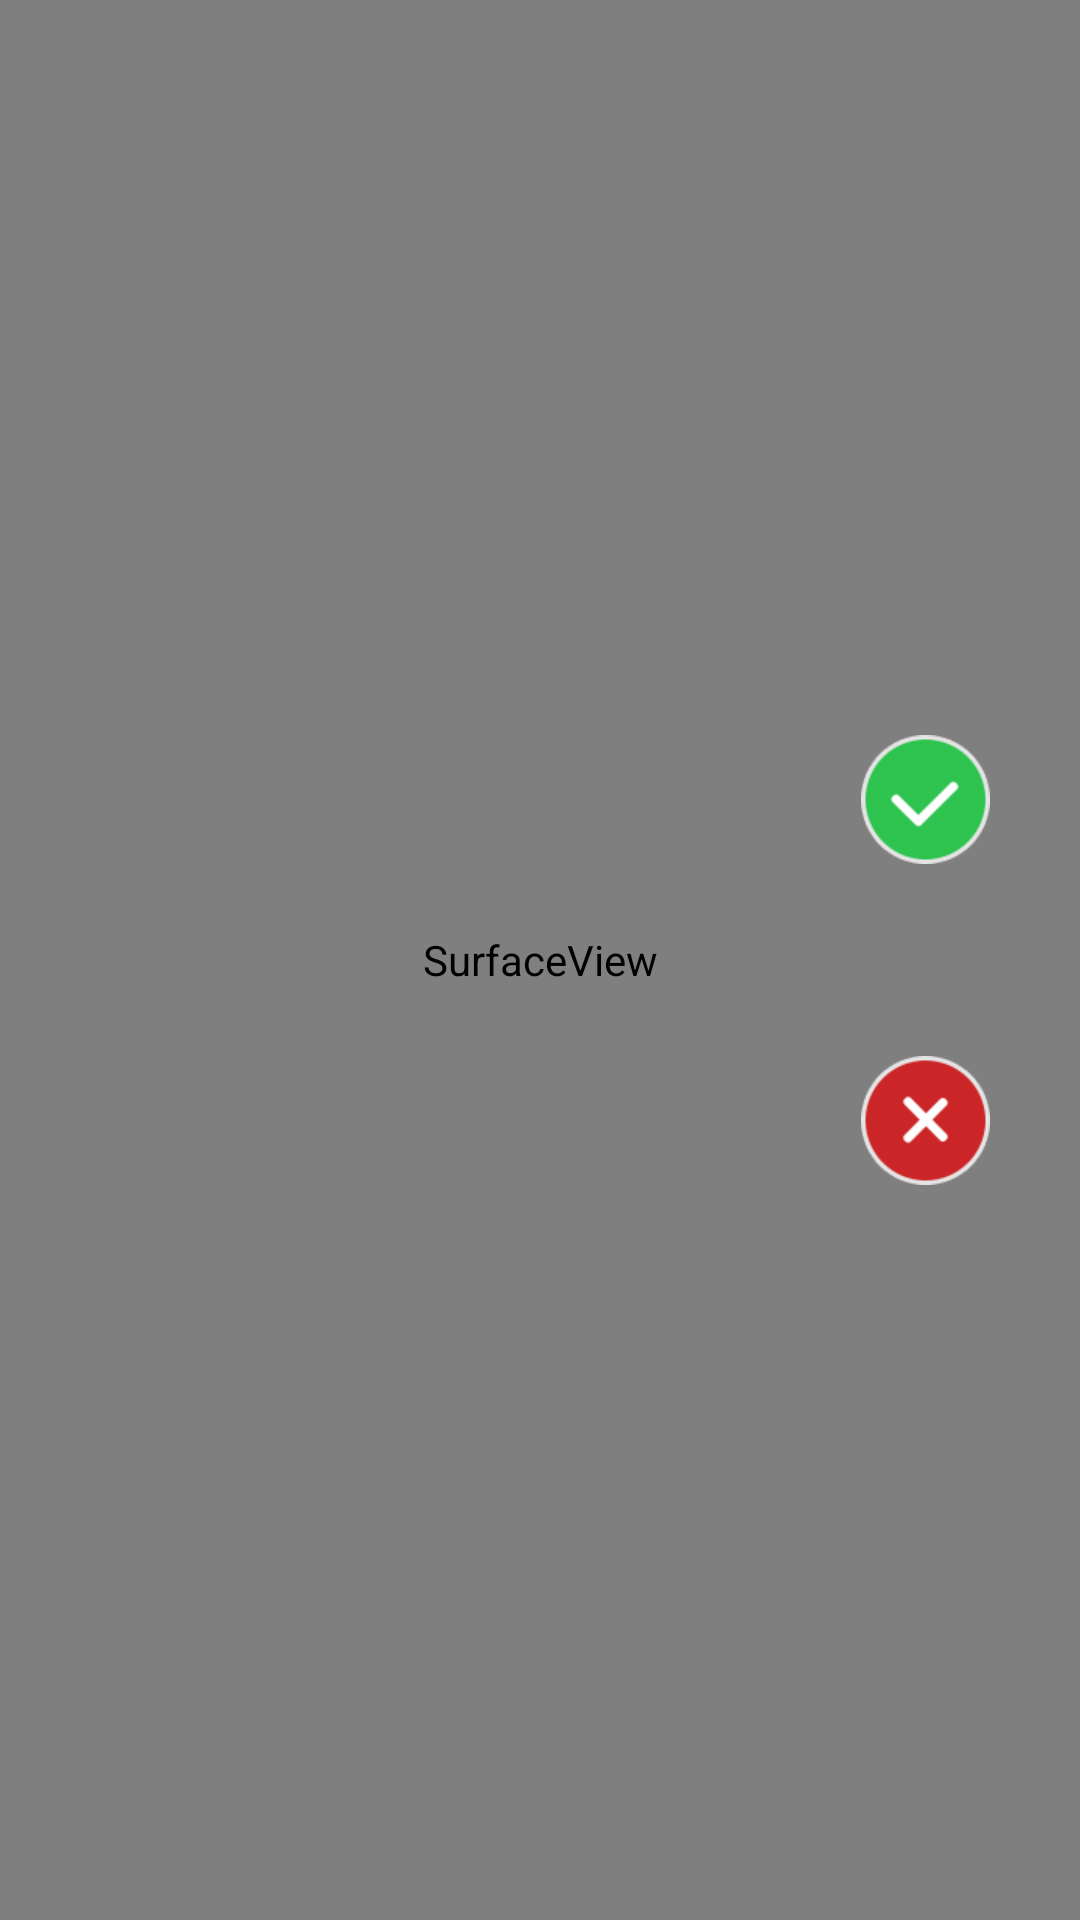

Locate icon controls on the screen. Image size 1080 x 1920, boxes as (x1, y1, x2, y2).
camera no: (861, 1056, 990, 1185)
camera yes: (861, 735, 990, 864)
